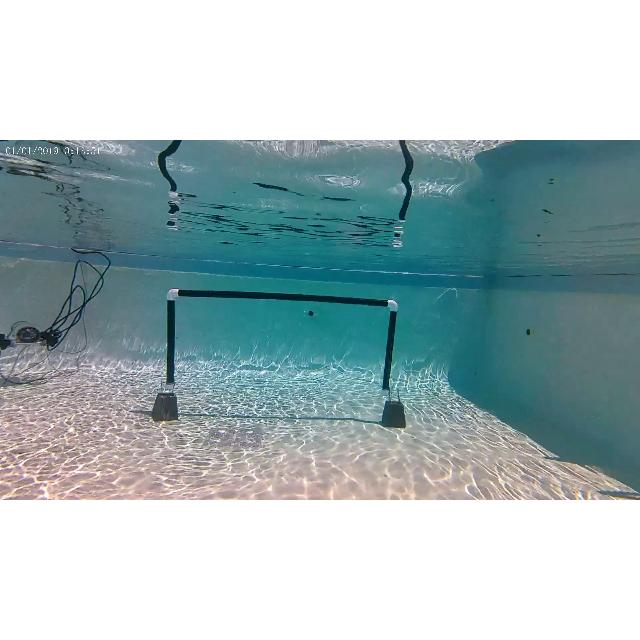prequal gate: (166, 289, 398, 395)
prequal gate leg l: (164, 287, 180, 389)
prequal gate leg r: (384, 300, 398, 390)
